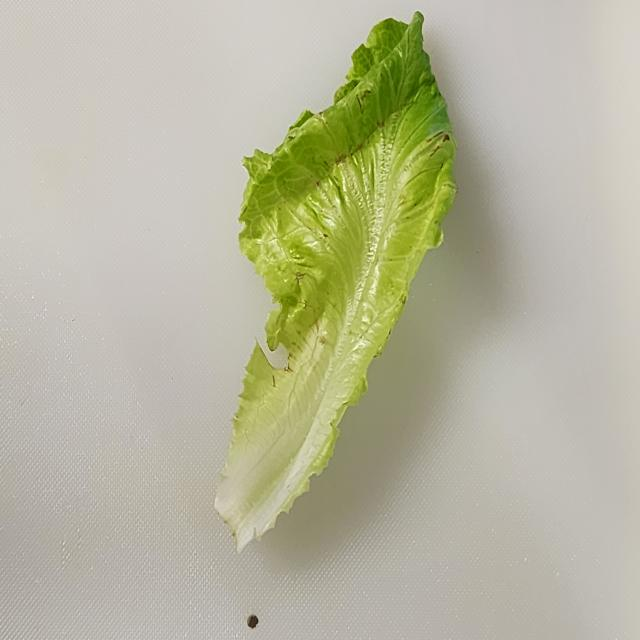lettuce: (213, 9, 458, 554)
